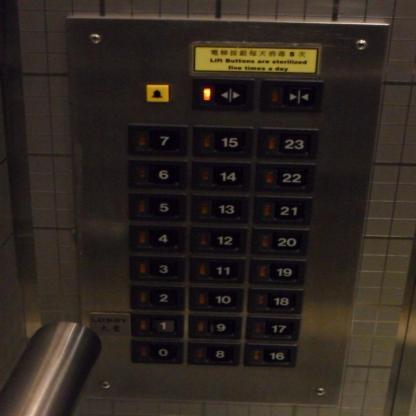0: (130, 340, 184, 364)
1: (130, 312, 184, 339)
10: (188, 285, 243, 312)
11: (188, 256, 245, 284)
12: (189, 225, 247, 254)
13: (189, 192, 250, 224)
14: (190, 159, 250, 191)
15: (192, 124, 252, 158)
16: (243, 342, 297, 367)
17: (245, 315, 300, 341)
18: (247, 286, 302, 314)
19: (248, 257, 307, 285)
2: (129, 284, 186, 311)
20: (250, 226, 309, 256)
21: (252, 195, 312, 225)
22: (254, 162, 316, 193)
23: (256, 126, 318, 160)
3: (128, 254, 186, 283)
4: (127, 224, 186, 253)
5: (127, 192, 187, 221)
6: (127, 160, 186, 190)
7: (128, 122, 187, 155)
8: (186, 340, 240, 365)
9: (186, 312, 242, 340)
alarm: (144, 84, 170, 102)
close: (261, 78, 322, 113)
open: (189, 76, 255, 112)
